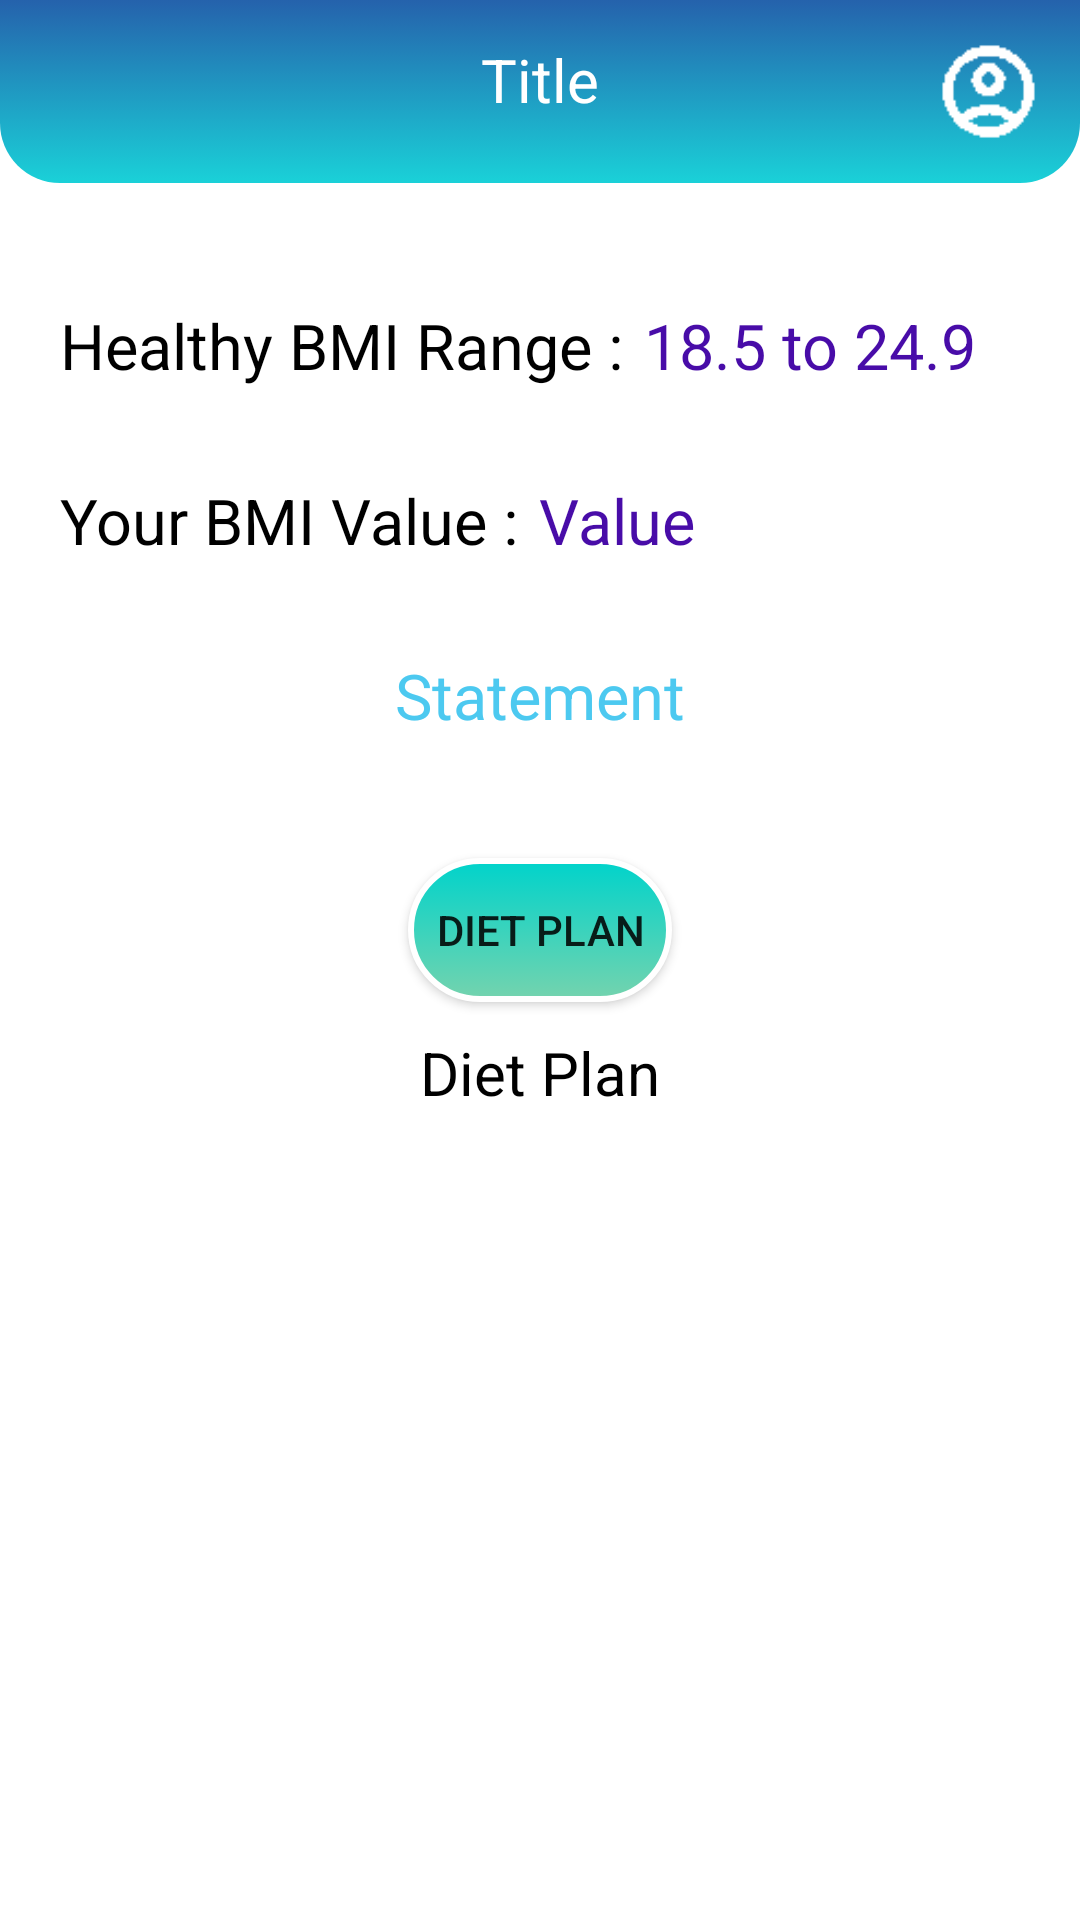

Screen size 1080 x 1920. Icon name, then its center in pixels as point (x, y):
profilebtn: point (988, 91)
